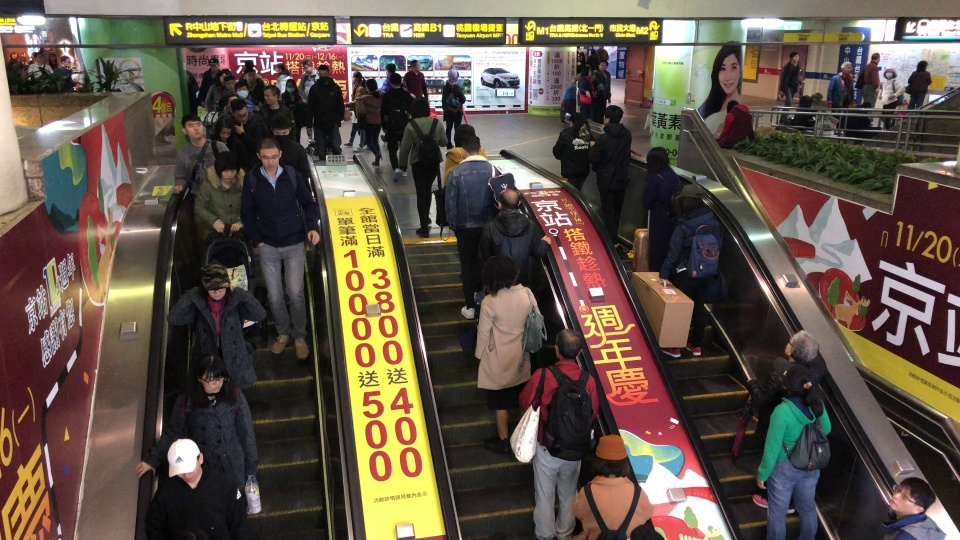person_head: (889, 476, 937, 518), (590, 433, 630, 479), (165, 437, 204, 484), (480, 254, 520, 296), (192, 351, 226, 395), (783, 329, 819, 365), (198, 262, 230, 301), (553, 326, 583, 361), (781, 365, 812, 398), (255, 136, 282, 172), (214, 150, 241, 183), (677, 183, 704, 211), (268, 111, 292, 141), (645, 146, 670, 172), (180, 114, 204, 140), (497, 187, 521, 212), (452, 123, 475, 149), (228, 98, 249, 124), (213, 115, 233, 142), (602, 104, 623, 127), (461, 134, 481, 157), (410, 99, 430, 120), (262, 85, 280, 106), (233, 79, 250, 99), (568, 112, 585, 130), (226, 92, 240, 113), (317, 63, 329, 84), (388, 72, 402, 87), (839, 60, 853, 75), (215, 70, 228, 86), (223, 75, 236, 91), (243, 68, 256, 84), (726, 99, 740, 113), (207, 57, 220, 72), (365, 78, 378, 93), (284, 78, 296, 94), (883, 67, 897, 80), (447, 68, 459, 83), (581, 63, 592, 79), (409, 59, 421, 73), (811, 92, 823, 106), (302, 59, 313, 74), (33, 52, 45, 65), (59, 54, 71, 67), (274, 62, 286, 75), (384, 63, 396, 76), (597, 60, 609, 73), (788, 51, 800, 63), (351, 71, 362, 84), (916, 60, 927, 73), (243, 60, 255, 70), (871, 52, 880, 64), (9, 51, 18, 59), (48, 52, 56, 61), (590, 48, 596, 56)
person_vbox: (239, 137, 321, 360), (516, 327, 599, 540), (135, 351, 258, 488), (472, 255, 548, 455), (746, 330, 820, 516), (755, 365, 832, 540), (166, 262, 268, 394), (657, 183, 728, 359), (444, 133, 503, 320), (142, 437, 249, 540), (569, 433, 653, 540), (477, 187, 552, 287), (398, 98, 449, 240), (587, 104, 632, 253), (641, 147, 683, 271), (170, 114, 231, 197), (193, 150, 244, 244), (873, 476, 947, 540), (256, 111, 311, 188), (216, 98, 274, 168), (305, 63, 344, 159), (380, 71, 411, 182), (551, 112, 592, 195), (443, 123, 489, 187), (354, 77, 384, 166), (254, 84, 296, 142), (207, 115, 249, 168), (826, 60, 856, 132), (441, 68, 466, 151), (716, 99, 755, 151), (778, 51, 805, 125), (343, 71, 368, 149), (279, 78, 307, 146), (837, 100, 881, 142), (878, 67, 906, 129), (860, 52, 881, 126), (904, 60, 932, 112), (592, 59, 612, 126), (402, 59, 430, 105), (197, 57, 222, 108), (234, 69, 265, 110), (575, 63, 598, 118), (791, 91, 823, 130), (204, 70, 228, 111), (298, 59, 319, 105), (27, 52, 54, 81), (233, 79, 254, 114), (273, 62, 293, 94), (380, 62, 397, 91), (56, 55, 75, 77), (4, 51, 24, 70), (586, 48, 601, 69), (45, 52, 59, 69), (595, 45, 609, 62), (598, 45, 604, 48)
